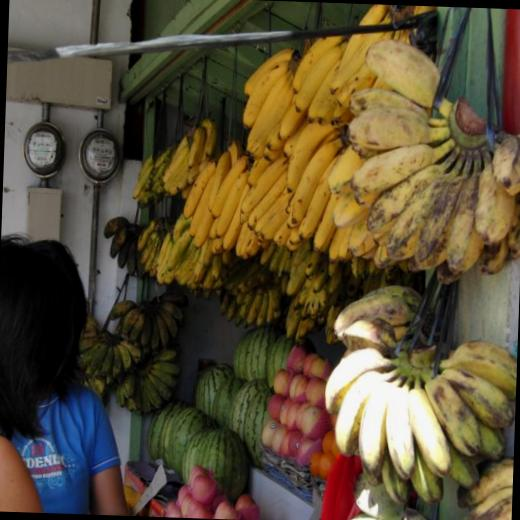Banana: (71, 0, 520, 520), (318, 295, 518, 506), (405, 374, 453, 479)
